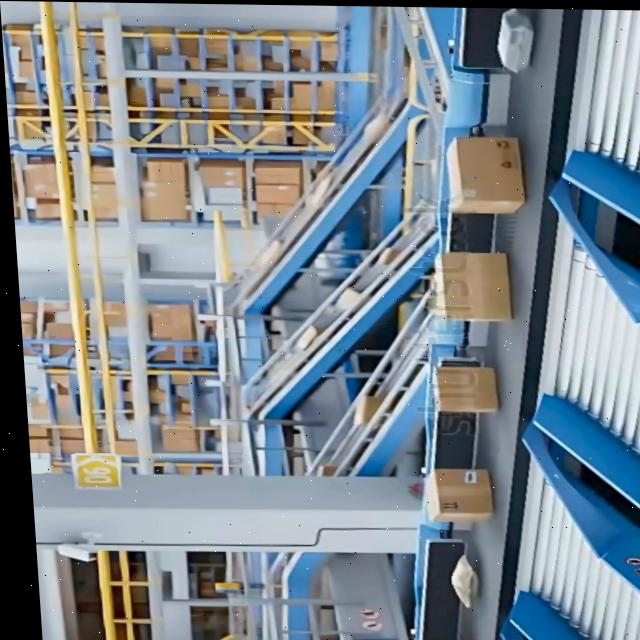product 1: (427, 251, 513, 322), (442, 145, 527, 215), (421, 468, 495, 523), (432, 365, 499, 412)
